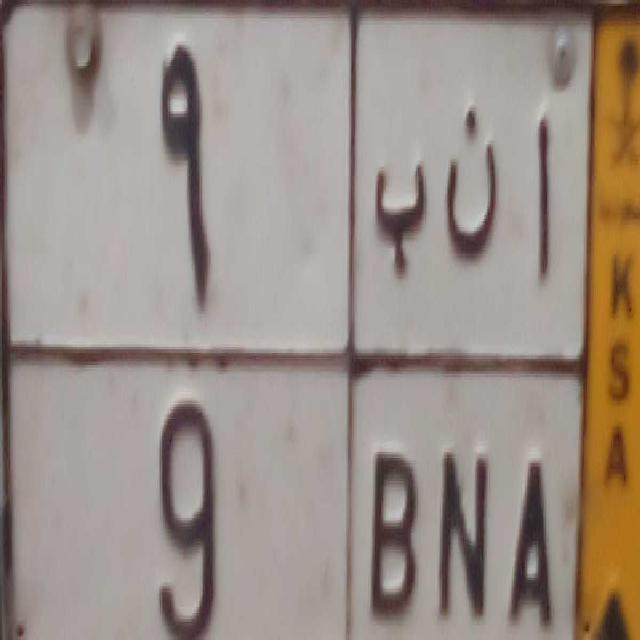license_plate: (7, 334, 578, 640)
